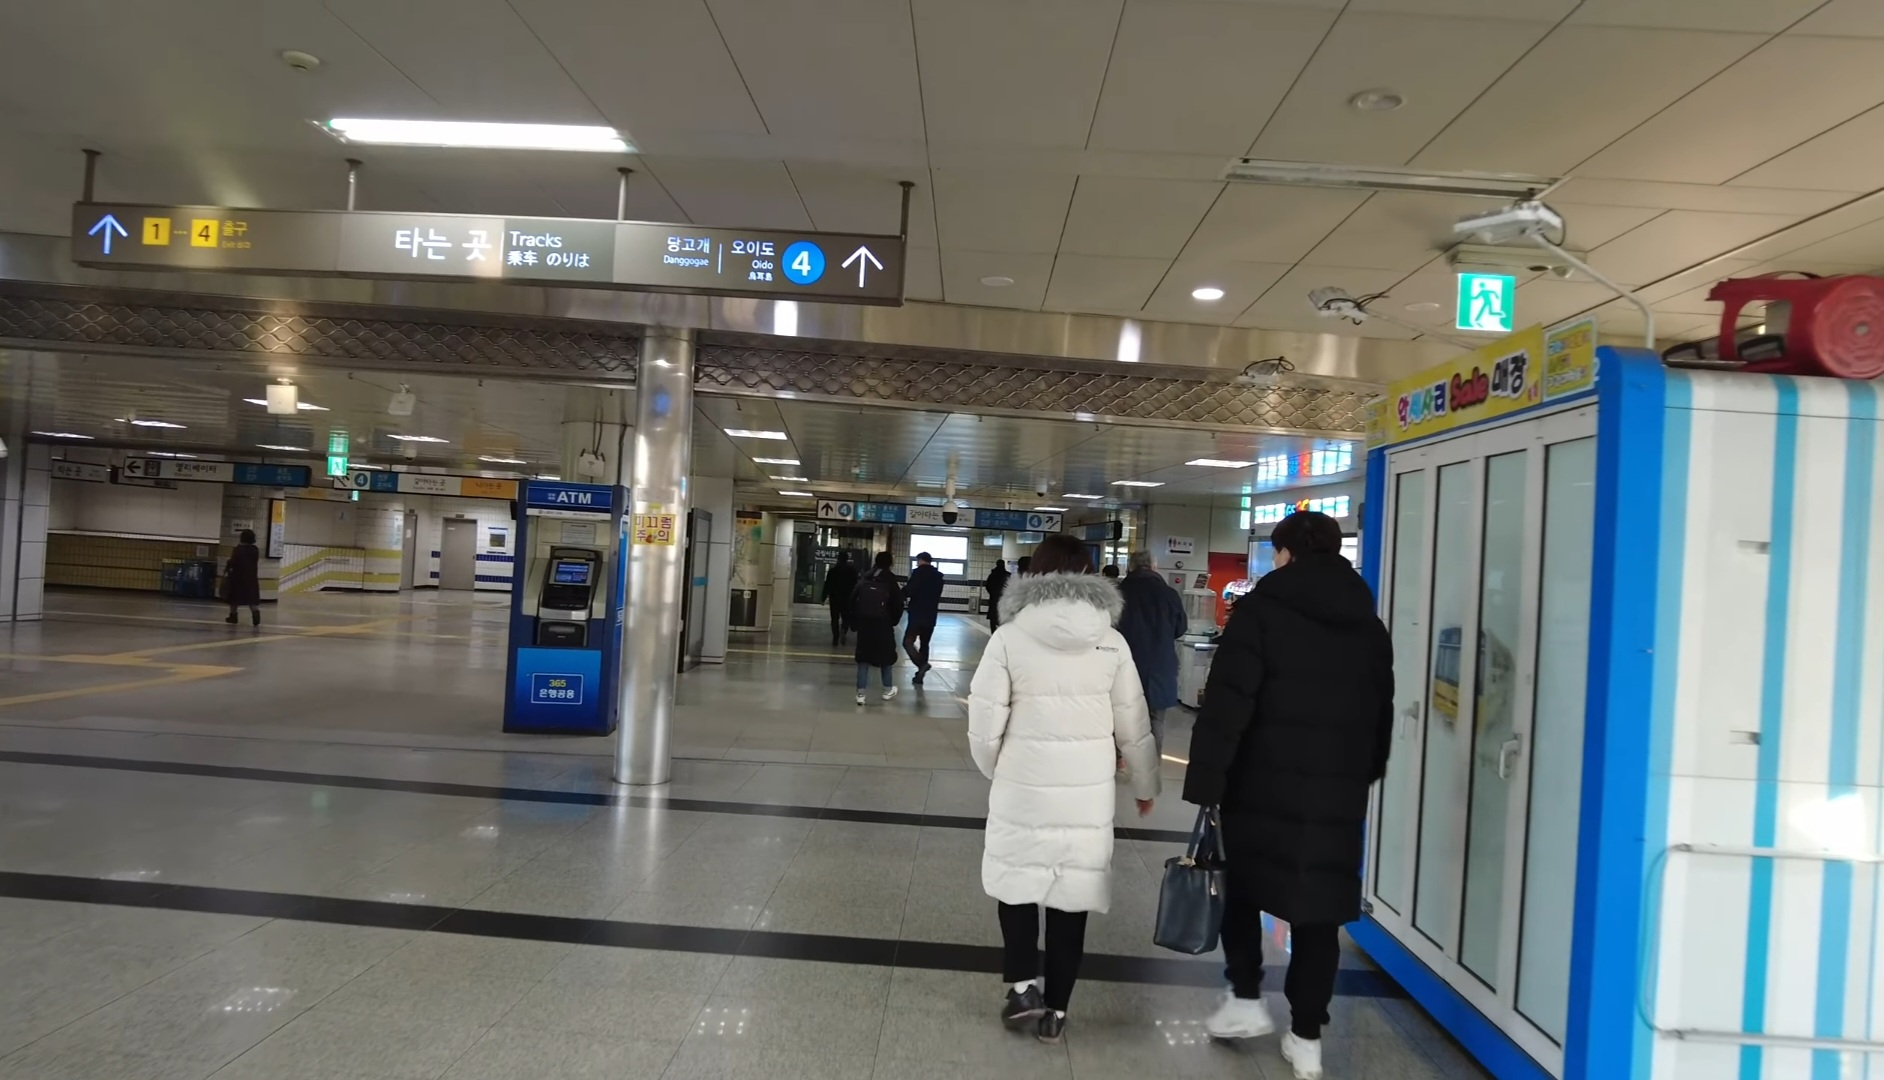signBoard: (63, 157, 921, 307)
